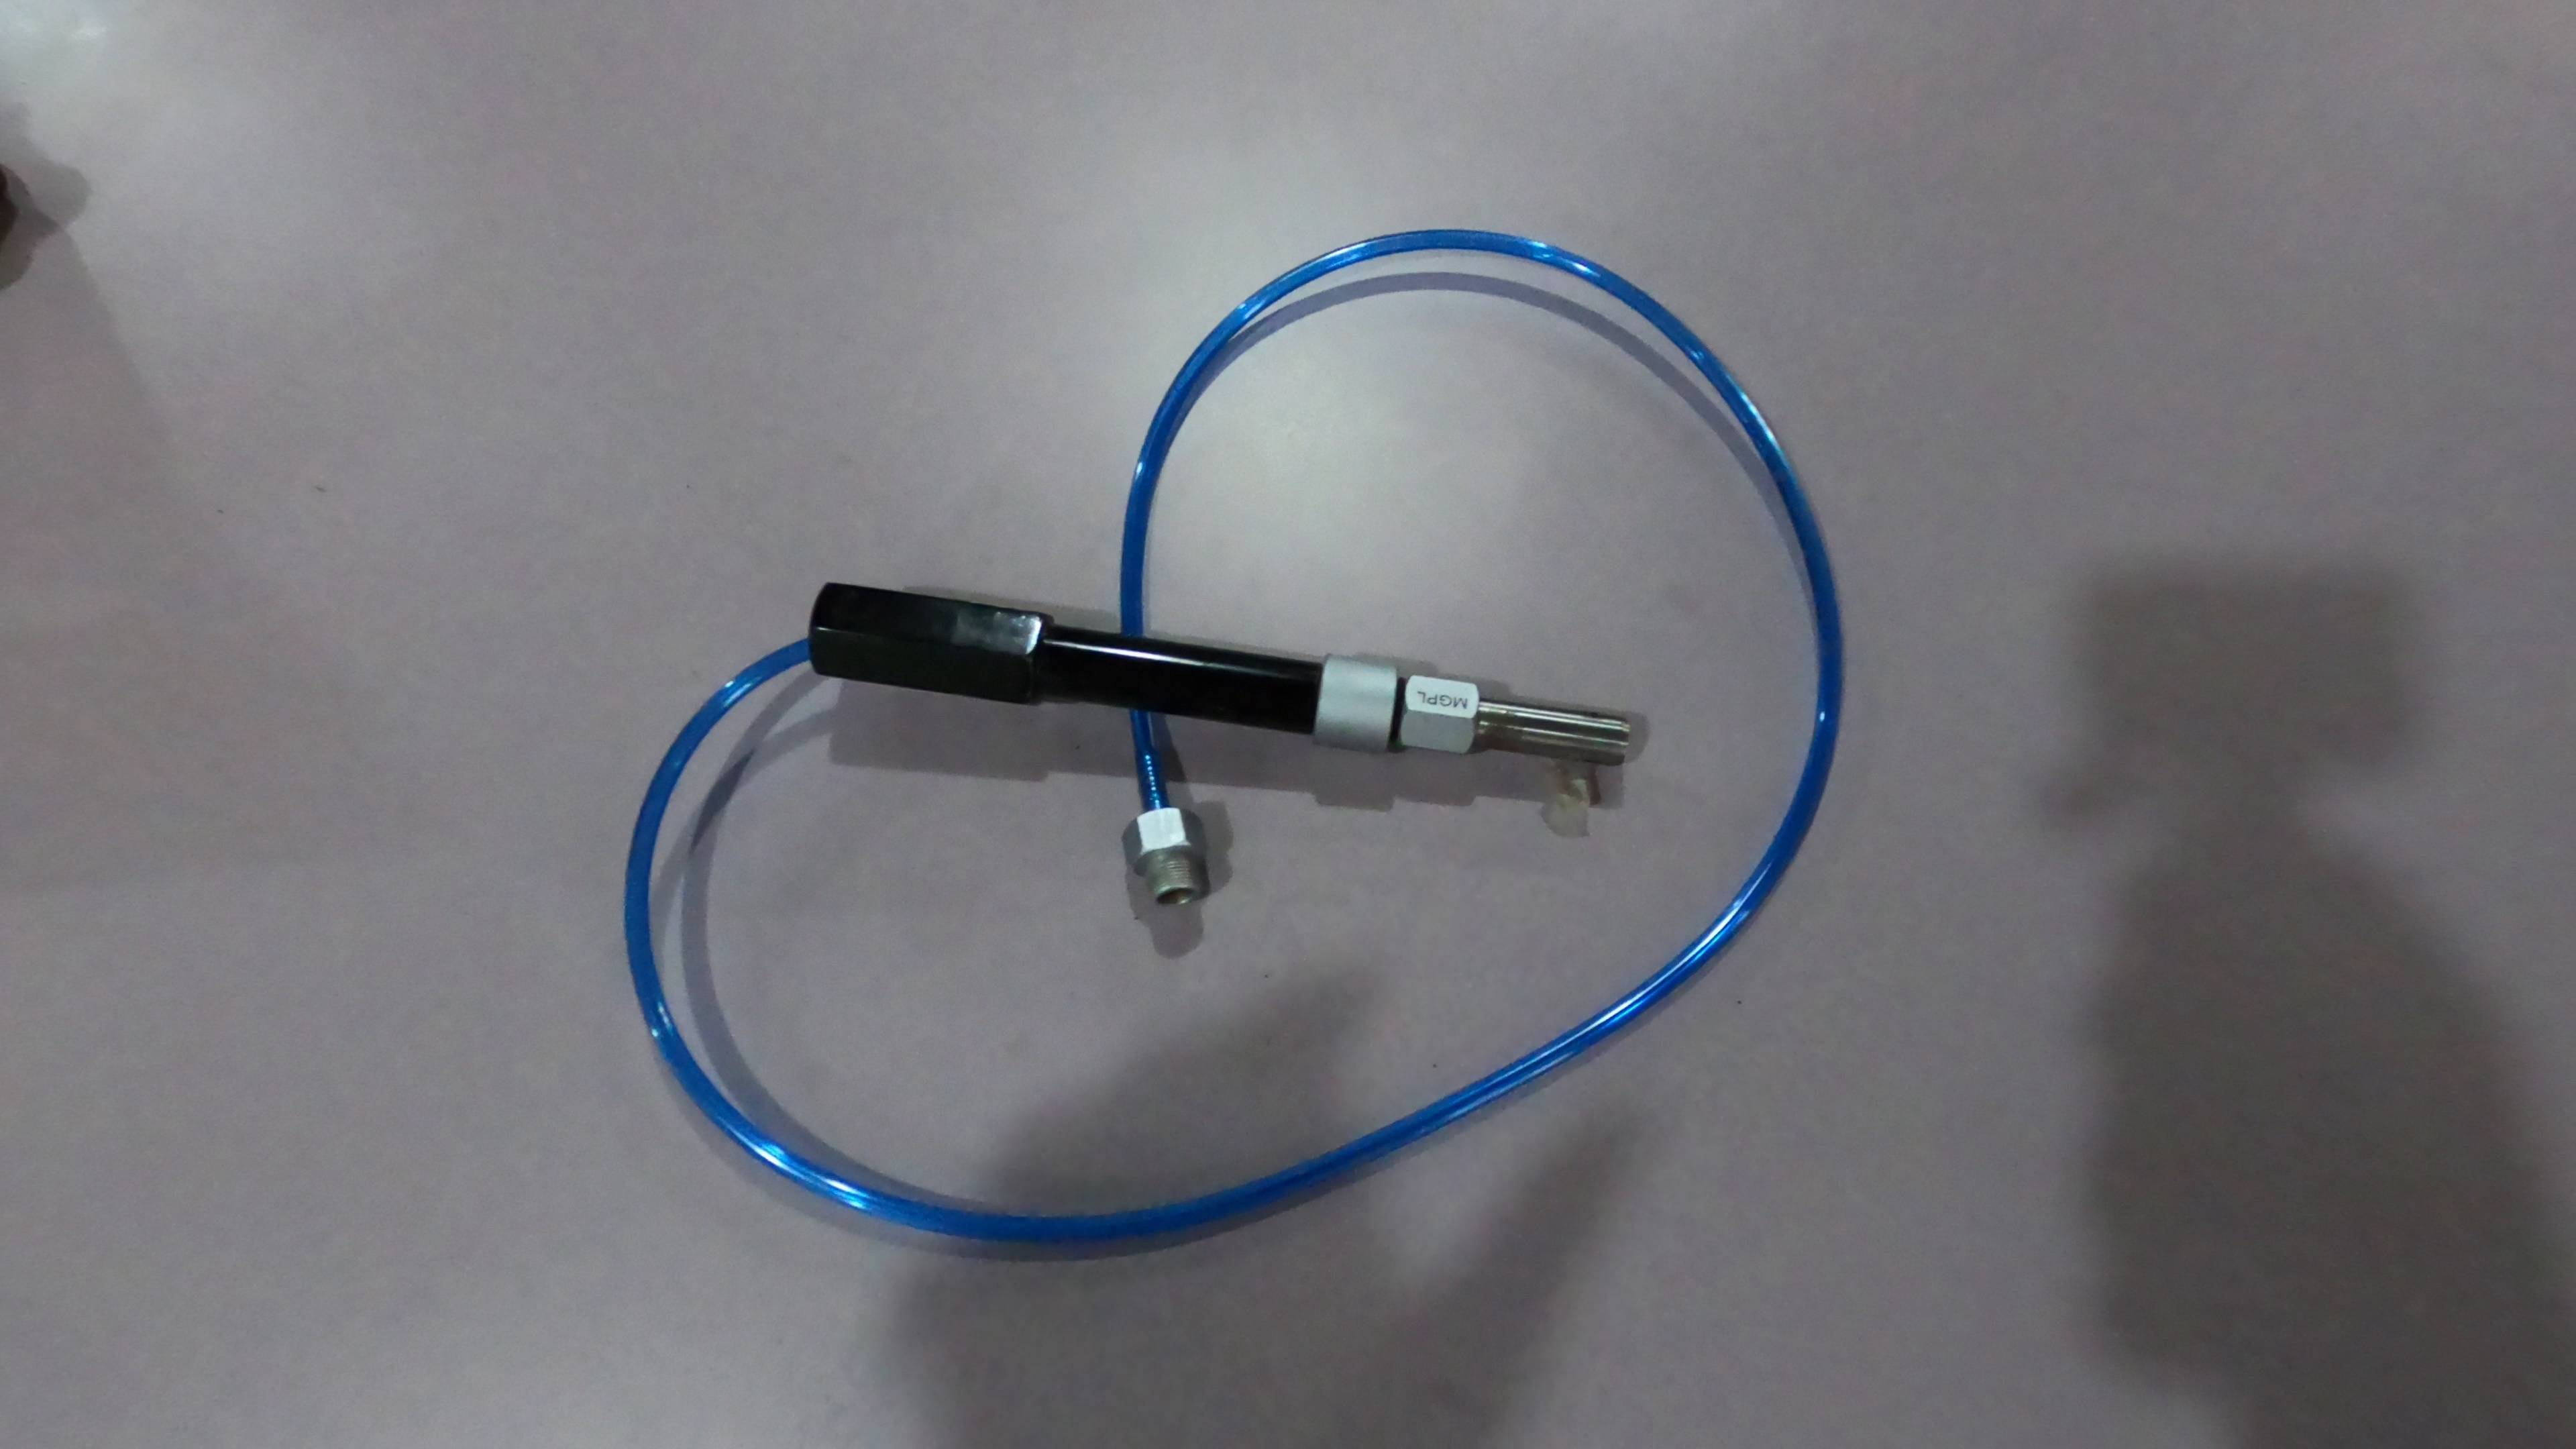air_gauge: (800, 571, 1642, 793)
